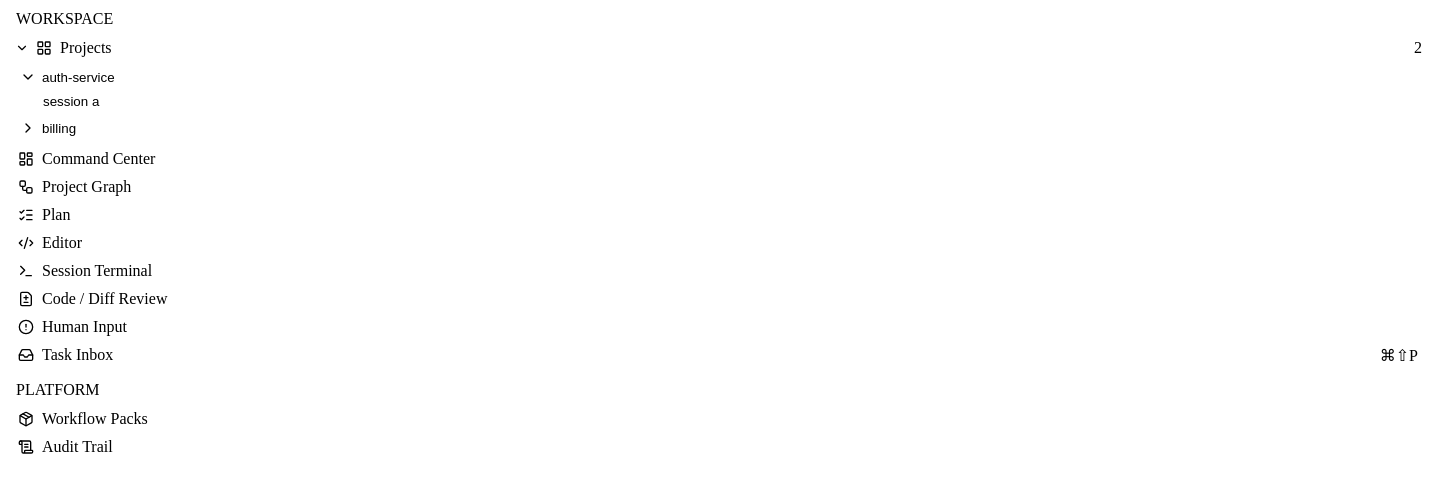
Sidebar workspace tree › sidebar_groups_sessions_under_their_project
Expected: the button "session a" is shown, top-left (14, 90), bottom-right (1430, 113)
# expand billing → its session row appears
Step 1. Click the button "billing" → (59, 128), box top-left (14, 115), bottom-right (1430, 141)
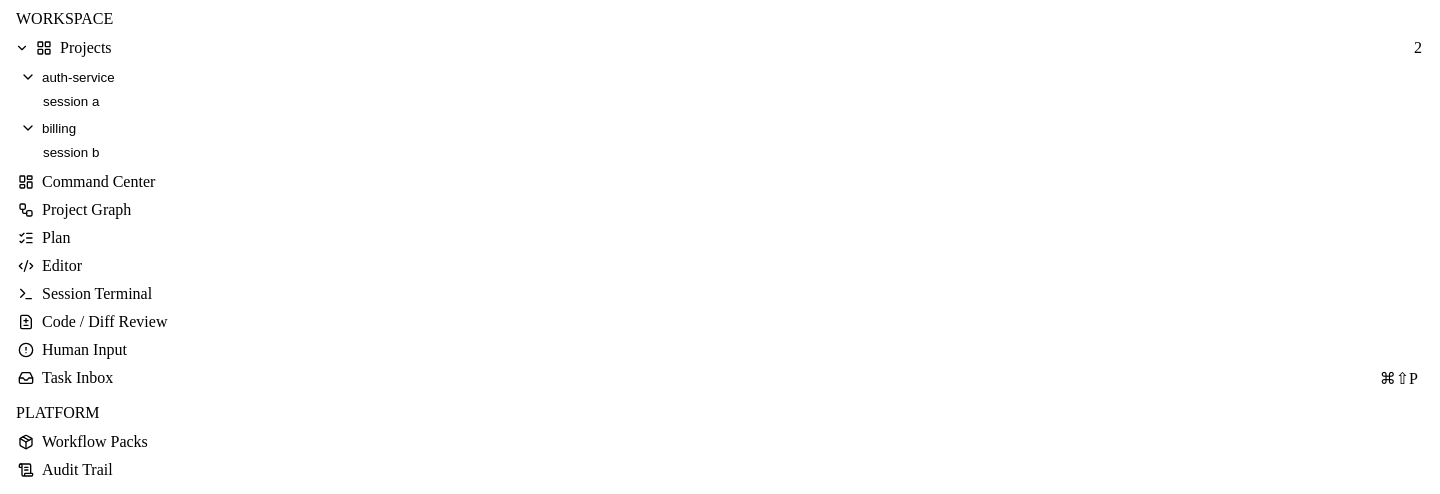
Now the button "session b" is shown, box top-left (14, 141), bottom-right (1430, 164)
